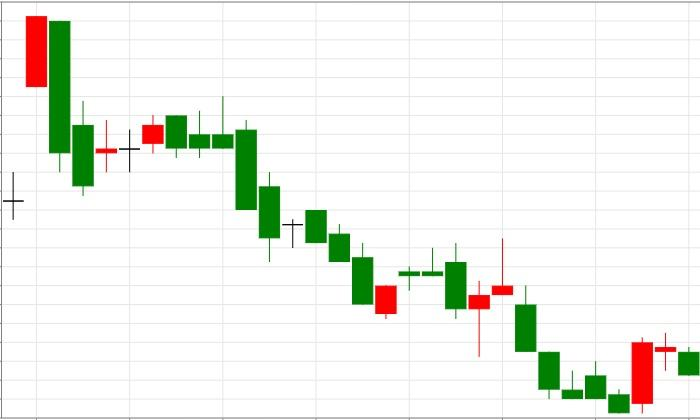bullish_engulfing_rise: (515, 284, 653, 415)
